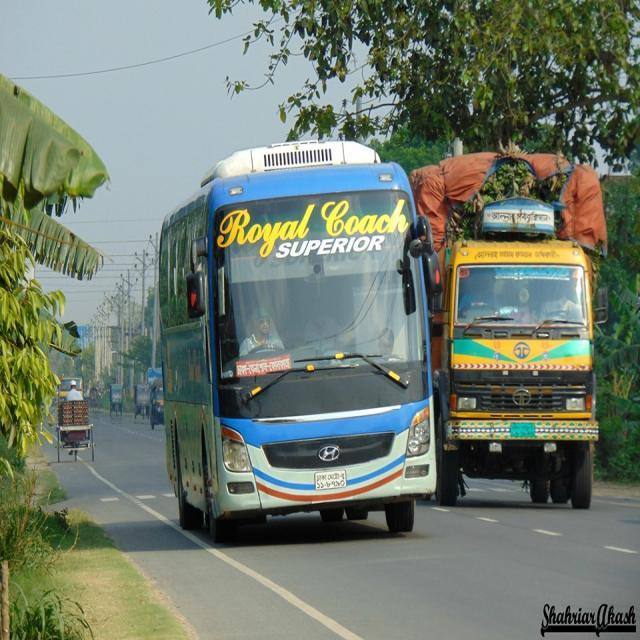Bus: (160, 123, 435, 543)
Truck: (436, 149, 598, 510)
Van: (56, 408, 104, 466)
